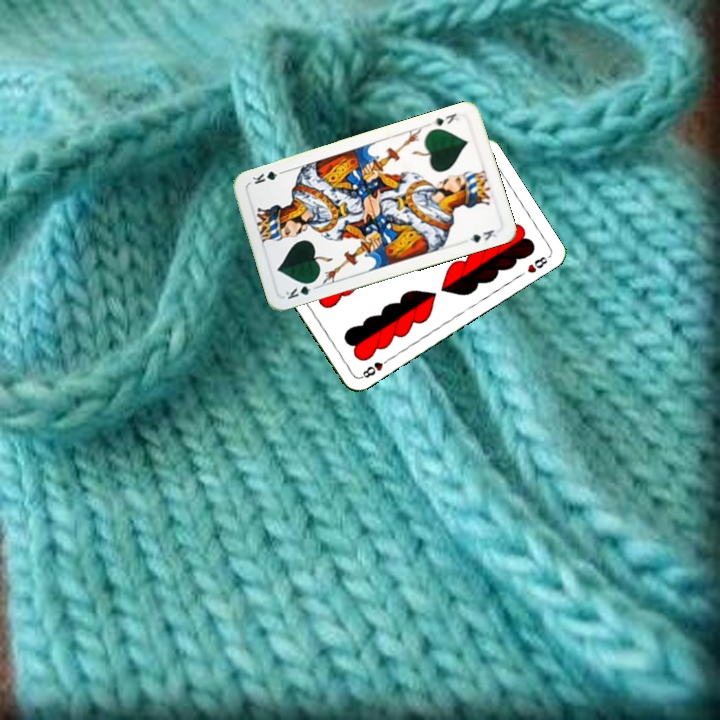GK: (281, 277, 321, 302), (428, 109, 462, 129)
H8: (357, 354, 393, 381)
